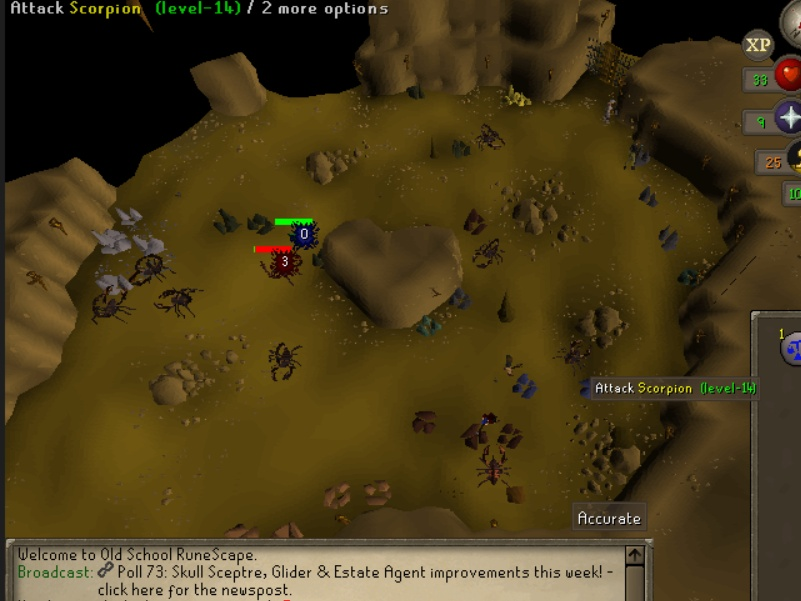adamant: (412, 313, 447, 339), (677, 266, 705, 289)
coal: (209, 205, 244, 239), (245, 208, 279, 239), (307, 239, 331, 271), (447, 132, 474, 160), (403, 75, 430, 103)
copper: (315, 475, 355, 514), (360, 476, 398, 511)
gold: (498, 81, 522, 107), (517, 88, 535, 111)
iron: (410, 406, 440, 440), (461, 208, 491, 242), (495, 418, 525, 452), (461, 420, 491, 454)
mithril: (508, 367, 543, 399)
tin: (90, 228, 135, 255), (93, 269, 136, 297), (111, 205, 148, 228), (131, 232, 168, 255)
